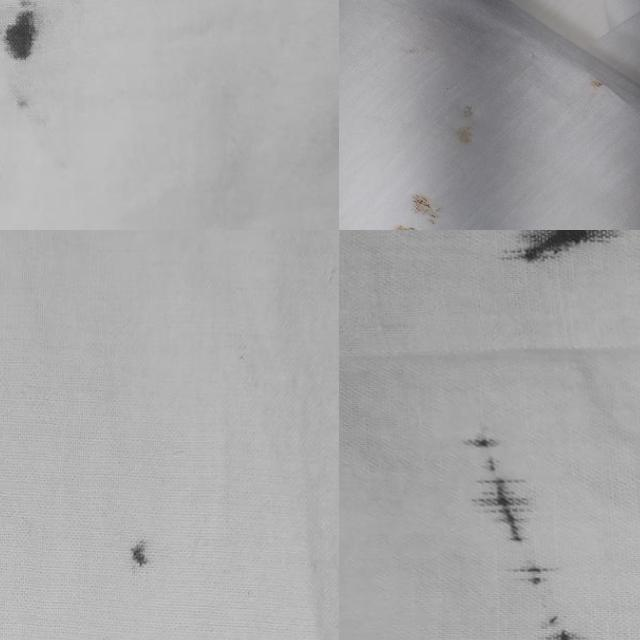Thread_other: (446, 412, 594, 640), (479, 230, 640, 306), (91, 508, 179, 602), (424, 76, 518, 160), (365, 178, 481, 230)
